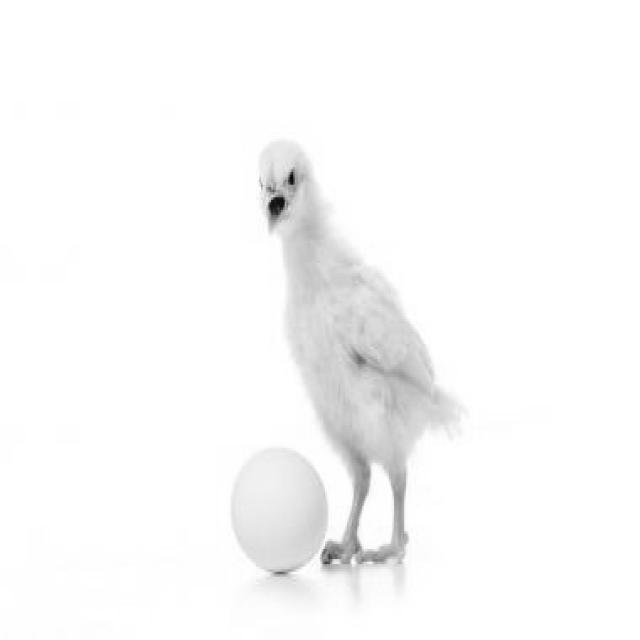Animal: (255, 142, 452, 571)
